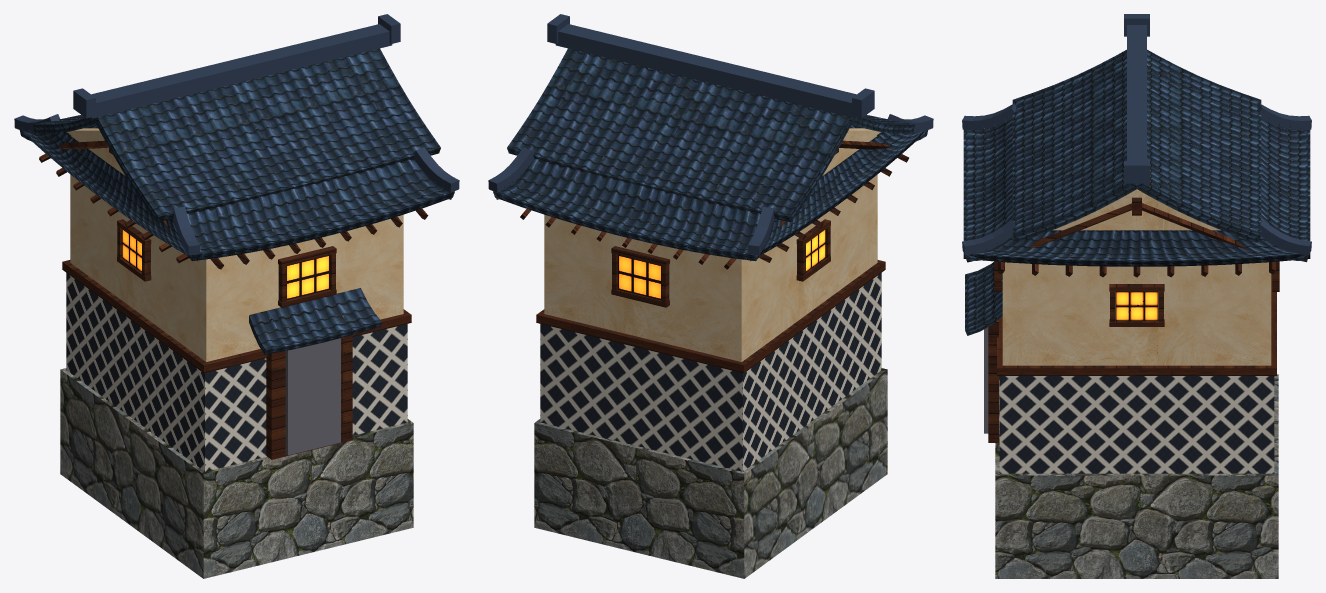
Rendered from kura_warehouse_hero.glb.
3 views of the same model, side by side, from view 1: azimuth 30°, elevation 25°; view 2: azimuth 150°, elevation 25°; view 3: azimuth 270°, elevation 25° (orthographic).
Visible parts, largest first — view 1: kura_kawara, kura_castle_stone, kura_namako_kabe, kura_plaster, kura_charred, kura_dark_iron, kura_shoji_glow; view 2: kura_kawara, kura_castle_stone, kura_namako_kabe, kura_plaster, kura_charred, kura_shoji_glow; view 3: kura_kawara, kura_castle_stone, kura_namako_kabe, kura_plaster, kura_charred, kura_shoji_glow, kura_dark_iron.
Boxes of the visible parts, x1,y1,x2,y2 form: kura_kawara: [14, 14, 459, 354]; kura_castle_stone: [60, 368, 413, 578]; kura_namako_kabe: [66, 273, 407, 471]; kura_plaster: [67, 128, 403, 361]; kura_charred: [39, 140, 428, 459]; kura_dark_iron: [285, 338, 340, 455]; kura_shoji_glow: [122, 229, 329, 299]; kura_kawara: [488, 14, 933, 261]; kura_castle_stone: [534, 368, 887, 578]; kura_namako_kabe: [540, 273, 881, 471]; kura_plaster: [544, 128, 880, 361]; kura_charred: [520, 140, 908, 373]; kura_shoji_glow: [618, 229, 825, 299]; kura_kawara: [962, 14, 1311, 335]; kura_castle_stone: [995, 374, 1278, 578]; kura_namako_kabe: [999, 376, 1274, 473]; kura_plaster: [1002, 189, 1271, 365]; kura_charred: [966, 197, 1307, 442]; kura_shoji_glow: [1115, 291, 1158, 320]; kura_dark_iron: [984, 327, 988, 433].
Size of the model in its own units: 4.96 by 6.7 by 4.84.
7 materials, 6 textured.
